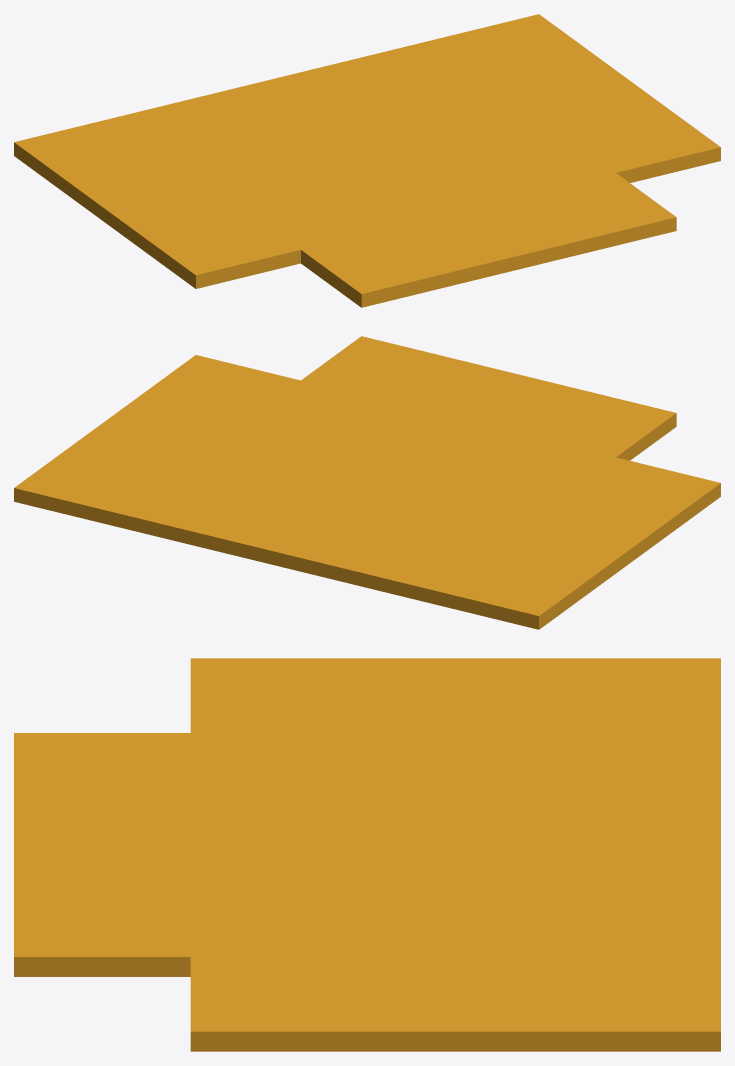
Rendered from SM_Road_TJunction.fbx.
3 renders of one model, top to bottom at view 1: azimuth 30°, elevation 25°; view 2: azimuth 150°, elevation 25°; view 3: azimuth 270°, elevation 25°, orthographic. The views are drawn at different scales.
Parts seen in each view (by area): view 1: SM_Road_TJunction; view 2: SM_Road_TJunction; view 3: SM_Road_TJunction.
Part boxes in pixels (x1,y1,x2,y2): SM_Road_TJunction: [14, 14, 720, 307]; SM_Road_TJunction: [14, 336, 720, 629]; SM_Road_TJunction: [14, 658, 720, 1051].
Size of the model in its own units: 200 by 160 by 5.
